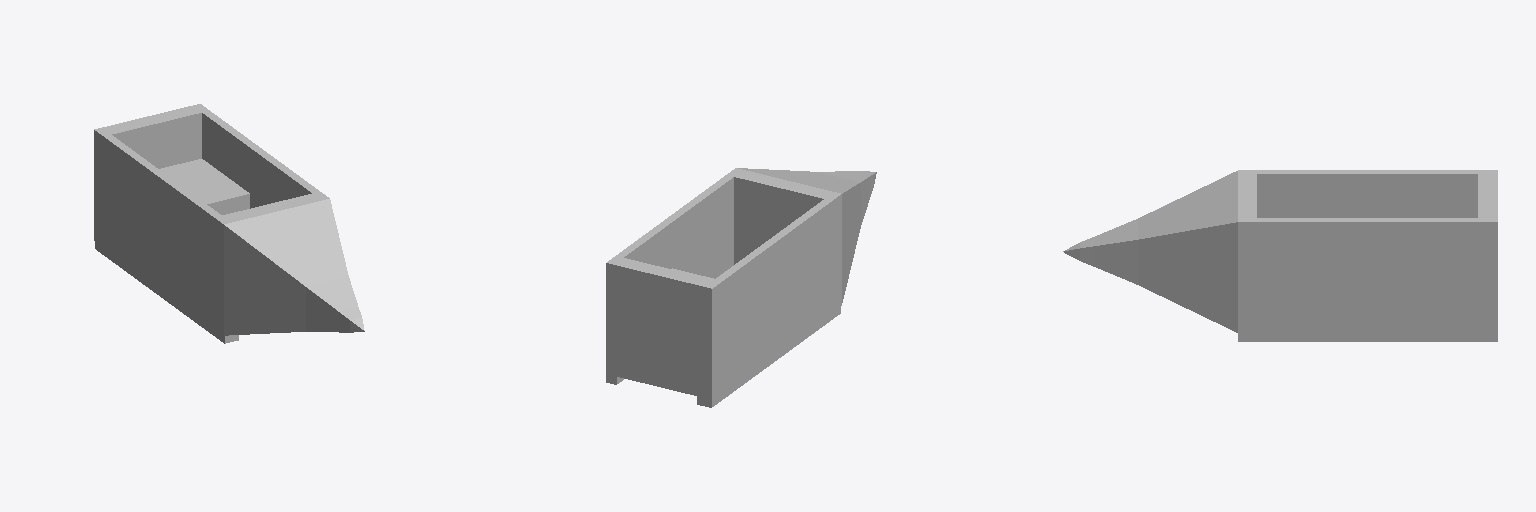
The model's file is rollerCoasterModel.obj.
The picture shows the model from 3 angles: view 1: azimuth 30°, elevation 25°; view 2: azimuth 150°, elevation 25°; view 3: azimuth 270°, elevation 25°; orthographic projection.
Visible parts, largest first — view 1: Cube; view 2: Cube; view 3: Cube.
Part boxes in pixels (x1,y1,x2,y2): Cube: (94, 104, 364, 343); Cube: (606, 168, 876, 407); Cube: (1063, 170, 1497, 341).
Bounding box in the file's own units: 2 × 2.15 × 7.09.